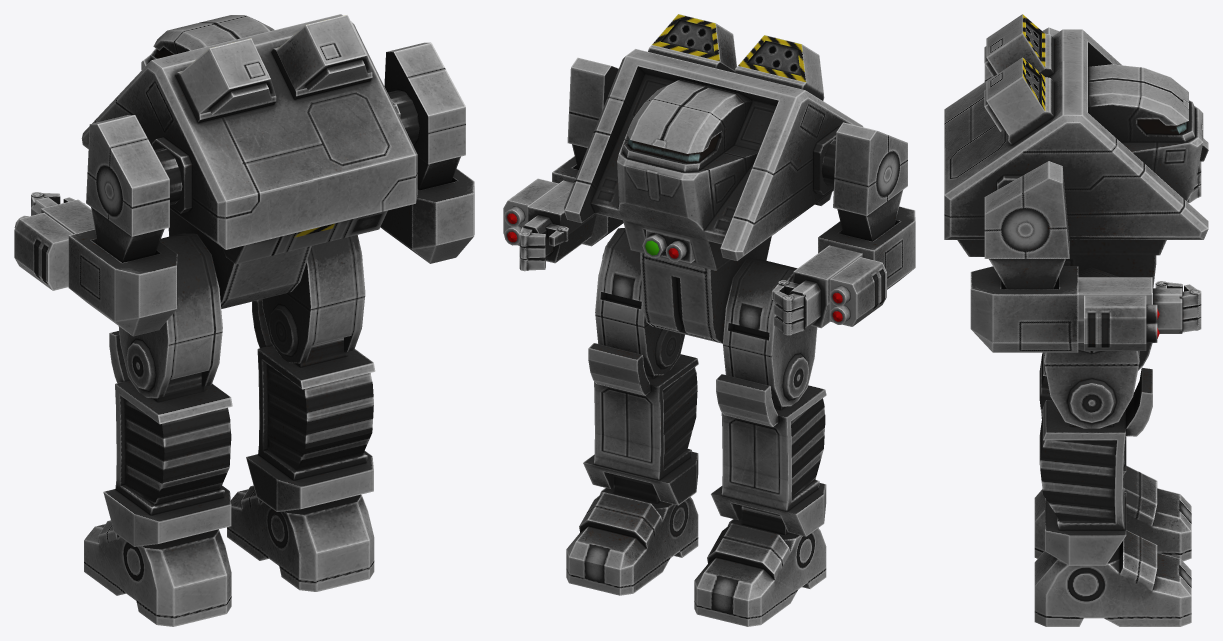
File: Phantom_A.FBX
3 renders of one model, left to right at view 1: azimuth 30°, elevation 25°; view 2: azimuth 150°, elevation 25°; view 3: azimuth 270°, elevation 25°, orthographic. The views are drawn at different scales.
Visible parts, largest first — view 1: torso, llowerleg, rlowerleg, llowerarm, lfoot, rfoot, lupperarm, lupperleg, rupperleg, rupperarm, rlowerarm, pelvis; view 2: torso, llowerleg, rlowerleg, lfoot, rfoot, lupperleg, llowerarm, lupperarm, pelvis, rupperleg, rlowerarm, rupperarm (+3 smaller); view 3: torso, rlowerarm, rlowerleg, rfoot, rupperarm, rupperleg, lfoot, rhand, pelvis, llowerleg.
Boxes of the visible parts, x1,y1,x2,y2 form: torso: (81,14,417,264); llowerleg: (103,331,232,546); rlowerleg: (246,299,375,511); llowerarm: (14,199,177,336); lfoot: (84,520,231,626); rfoot: (227,485,374,591); lupperarm: (86,115,182,262); lupperleg: (118,233,222,398); rupperleg: (262,235,365,363); rupperarm: (384,42,465,190); rlowerarm: (380,168,474,263); pelvis: (168,209,311,308); torso: (563,14,863,270); llowerleg: (711,374,826,536); rlowerleg: (583,343,698,505); lfoot: (694,505,826,626); rfoot: (566,474,698,595); lupperleg: (722,259,817,406); llowerarm: (793,206,915,328); lupperarm: (821,122,907,241); pelvis: (640,236,771,343); rupperleg: (595,228,684,375); rlowerarm: (503,156,623,263); rupperarm: (567,57,618,169); torso: (944,14,1208,256); rlowerarm: (970,266,1159,352); rlowerleg: (1039,367,1152,565); rfoot: (1034,530,1191,626); rupperarm: (984,161,1069,289); rupperleg: (1044,267,1139,428); lfoot: (1034,465,1191,561); rhand: (1153,281,1201,333); pelvis: (1063,255,1156,292); llowerleg: (1039,343,1152,475).
Bounding box in the file's own units: 37.35 × 52.12 × 23.45.
1 material, 1 textured.
